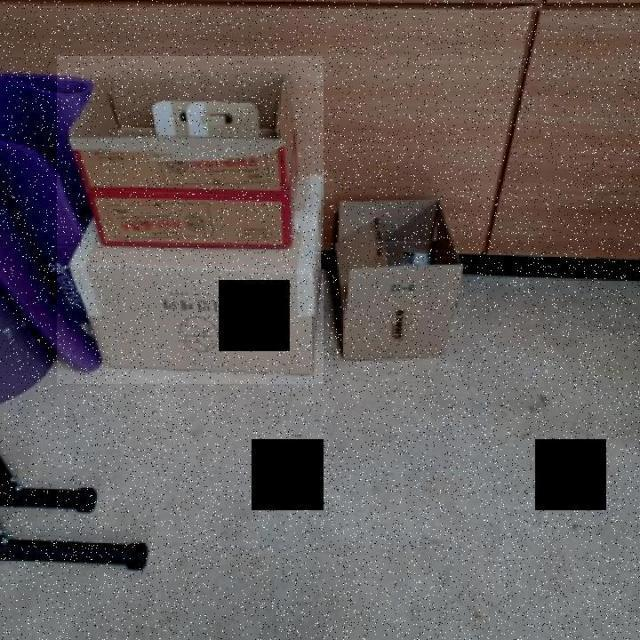box: (56, 56, 324, 384), (334, 173, 476, 376)
